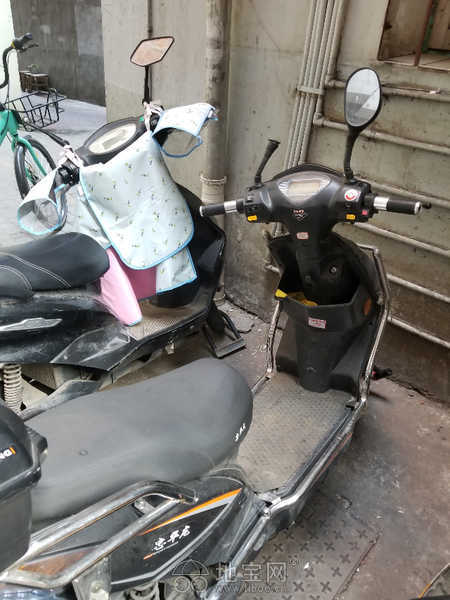电动车: (1, 64, 420, 597), (1, 36, 248, 384)
